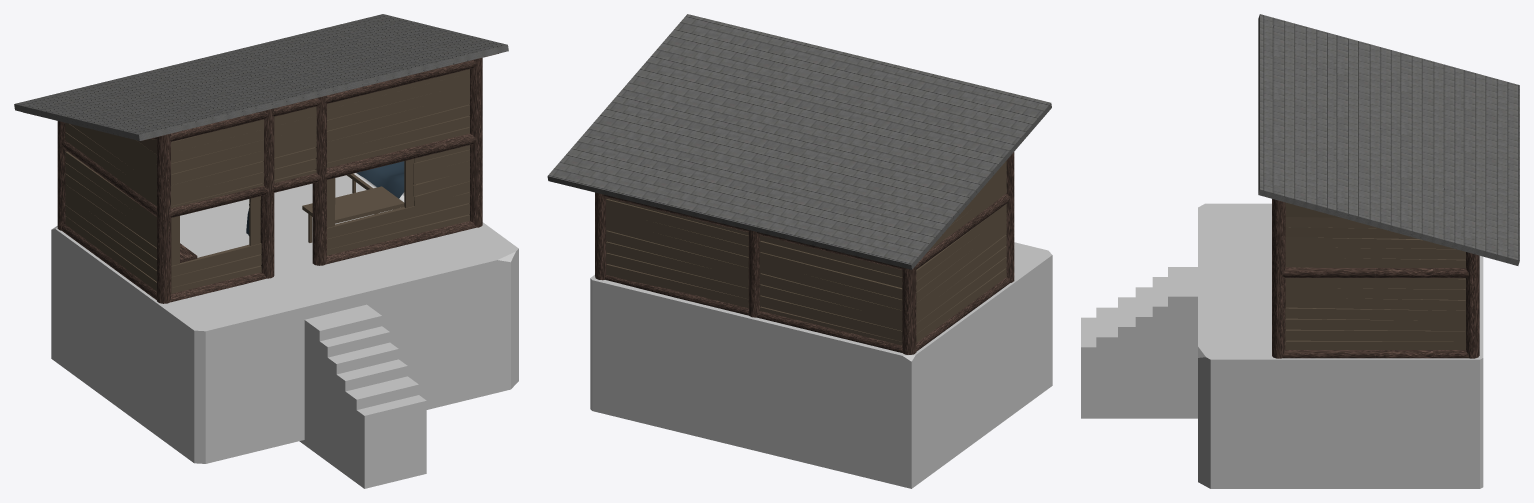
File: Cabin.fbx
3 views of the same model, side by side, from view 1: azimuth 30°, elevation 25°; view 2: azimuth 150°, elevation 25°; view 3: azimuth 270°, elevation 25° (orthographic). The views are drawn at different scales.
Visible parts, largest first — view 1: Floor, Planks, Roof, Logs, Cube, Cube.003, Plane; view 2: Roof, Floor, Planks, Logs; view 3: Floor, Roof, Planks, Cube, Logs.
Boxes of the visible parts, x1,y1,x2,y2 form: Floor: (51,175,518,463); Planks: (65,69,469,293); Roof: (14,14,508,140); Logs: (57,58,482,303); Cube: (299,304,426,488); Cube.003: (302,186,404,223); Plane: (356,161,404,198); Roof: (547,14,1051,269); Floor: (590,242,1052,488); Planks: (606,161,1006,345); Logs: (595,152,1014,354); Floor: (1198,203,1483,488); Roof: (1258,14,1519,265); Planks: (1285,202,1465,349); Cube: (1081,267,1197,418); Logs: (1272,199,1479,358).
Bounding box in the file's own units: 1212 × 980 × 1252.
